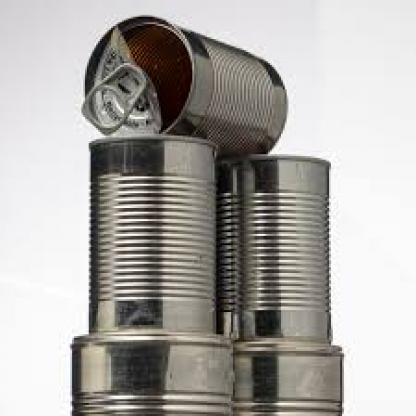METAL: (80, 13, 288, 156), (85, 134, 216, 334), (214, 150, 333, 346), (70, 333, 233, 414), (231, 336, 344, 414)
